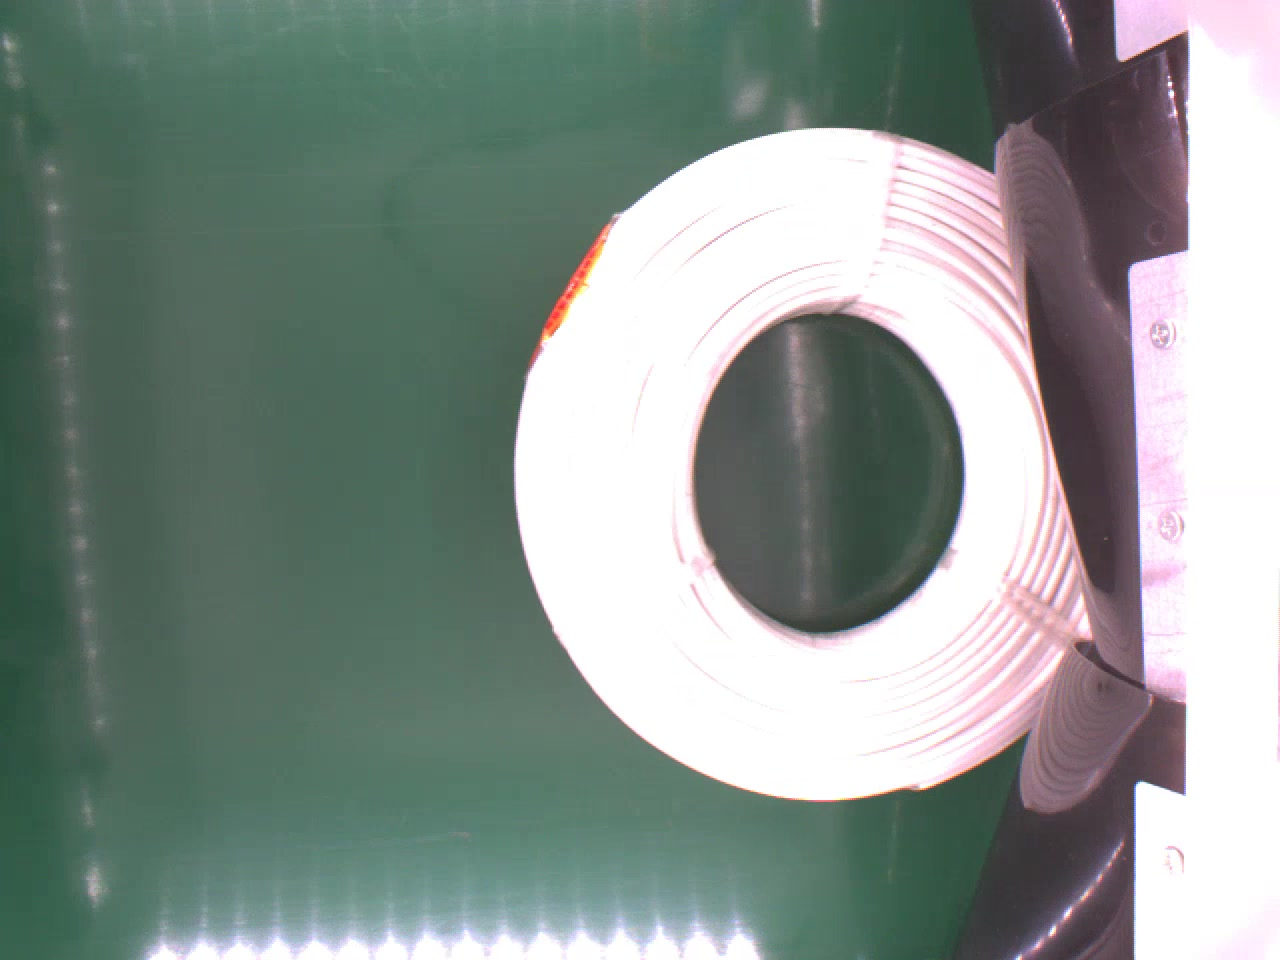white: (514, 122, 1092, 811)
